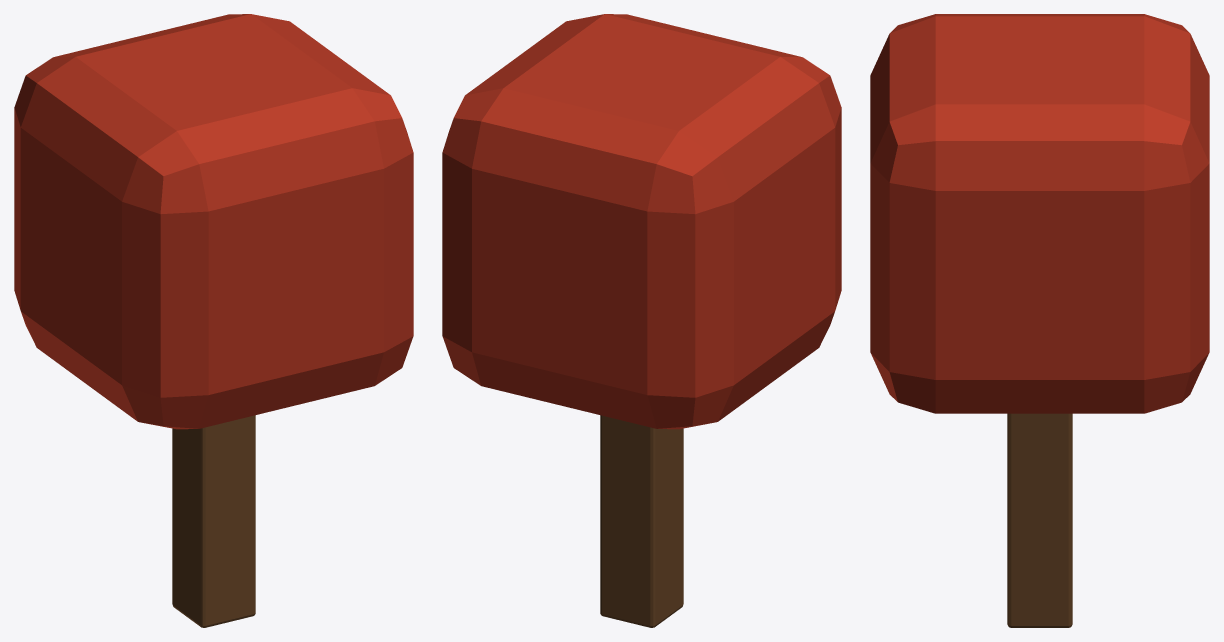
Rendered from oak.glb.
The picture shows the model from 3 angles, left to right: view 1: azimuth 30°, elevation 25°; view 2: azimuth 150°, elevation 25°; view 3: azimuth 270°, elevation 25°; orthographic projection. The views are drawn at different scales.
Parts seen in each view (by area): view 1: crown, trunk; view 2: crown, trunk; view 3: crown, trunk.
Part boxes in pixels (bbox=[...]): crown: bbox=[14, 14, 413, 429]; trunk: bbox=[172, 415, 255, 627]; crown: bbox=[442, 14, 841, 429]; trunk: bbox=[600, 415, 683, 627]; crown: bbox=[870, 14, 1209, 413]; trunk: bbox=[1007, 413, 1072, 627].
Bounding box in the file's own units: 2.6 × 4.7 × 2.6.
